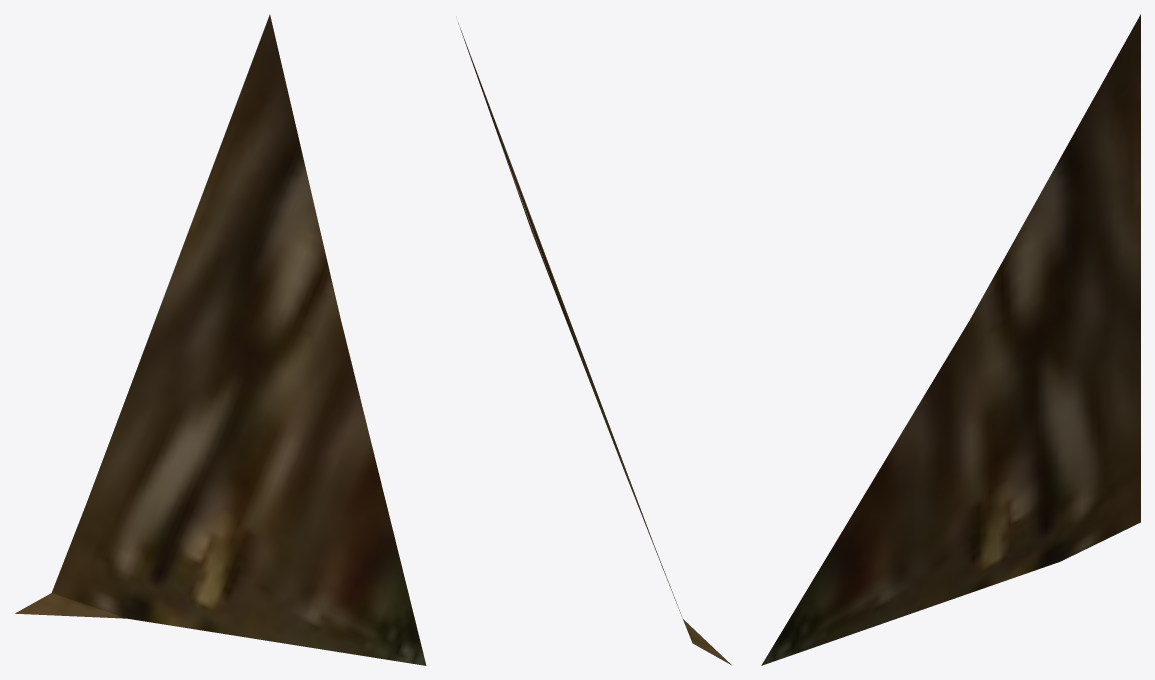
3 renders of one model, left to right at view 1: azimuth 30°, elevation 25°; view 2: azimuth 150°, elevation 25°; view 3: azimuth 270°, elevation 25°, orthographic. The views are drawn at different scales.
Bounding box in the file's own units: 0.3051 × 0.6134 × 0.3238.
1 material, 1 textured.
